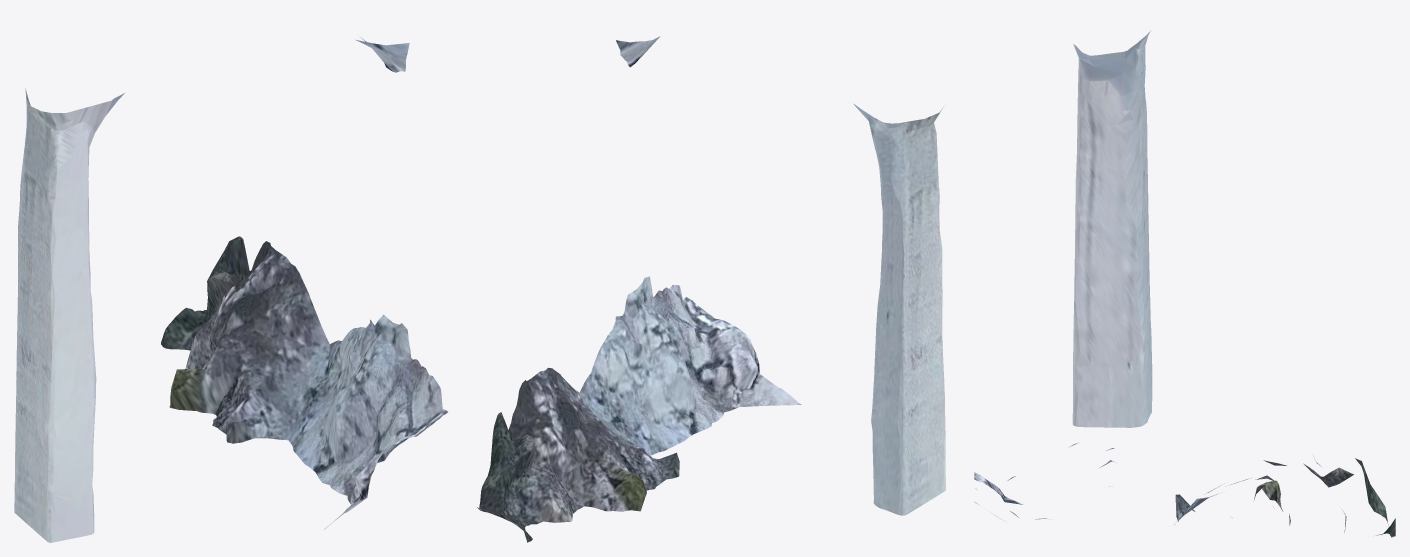
Rendered from Tile_+009_+007_L19_00410.glb.
3 views of the same model, side by side, from view 1: azimuth 30°, elevation 25°; view 2: azimuth 150°, elevation 25°; view 3: azimuth 270°, elevation 25° (orthographic). The views are drawn at different scales.
Visible parts, largest first — view 1: rtc; view 2: rtc; view 3: rtc.
Part boxes in pixels (<box>): rtc: <box>14,34,447,542</box>; rtc: <box>477,36,945,542</box>; rtc: <box>974,30,1395,537</box>.
Bounding box in the file's own units: 42.06 × 49.3 × 48.32.
1 material, 1 textured.
